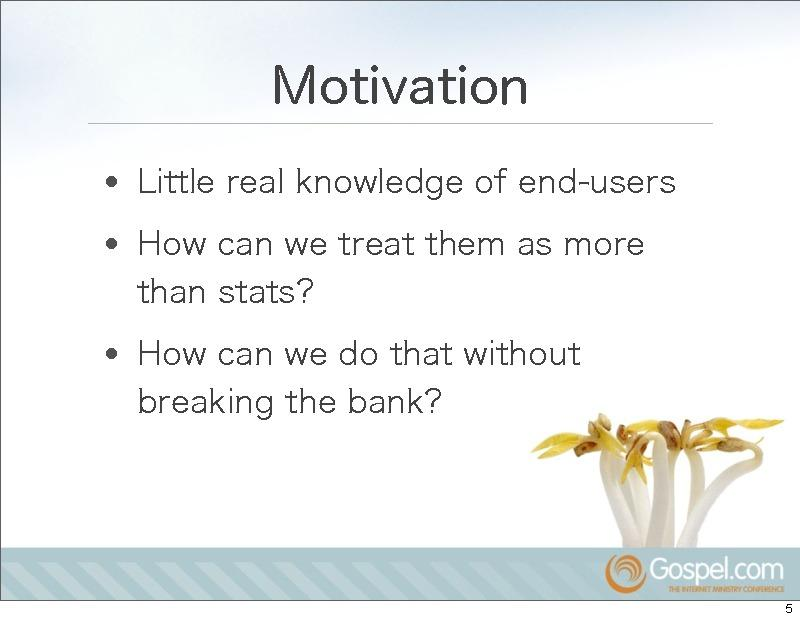paragraph: (131, 147, 694, 430)
title: (254, 55, 549, 120)
